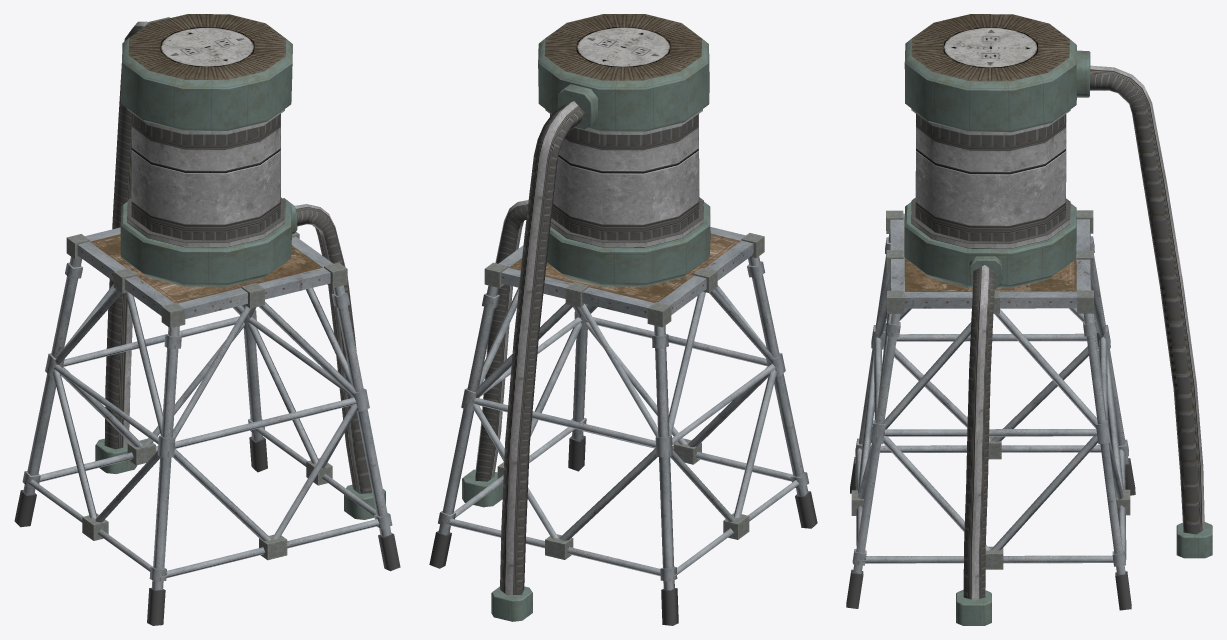
The model's file is Ob_Transformer_RC.fbx.
3 views of the same model, side by side, from view 1: azimuth 30°, elevation 25°; view 2: azimuth 150°, elevation 25°; view 3: azimuth 270°, elevation 25° (orthographic).
Parts seen in each view (by area): view 1: Ob_Transformer_RC; view 2: Ob_Transformer_RC; view 3: Ob_Transformer_RC.
Part boxes in pixels (bbox=[...]): Ob_Transformer_RC: bbox=[14, 14, 400, 625]; Ob_Transformer_RC: bbox=[429, 14, 817, 625]; Ob_Transformer_RC: bbox=[846, 14, 1212, 625].
Bounding box in the file's own units: 4432 × 7327 × 4835.
